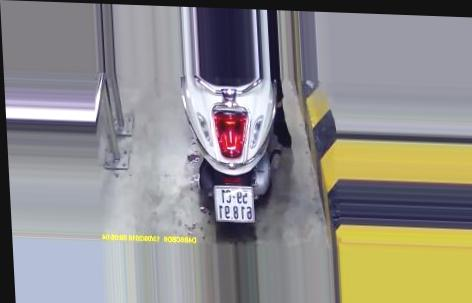License_Plate: (210, 181, 260, 225)
